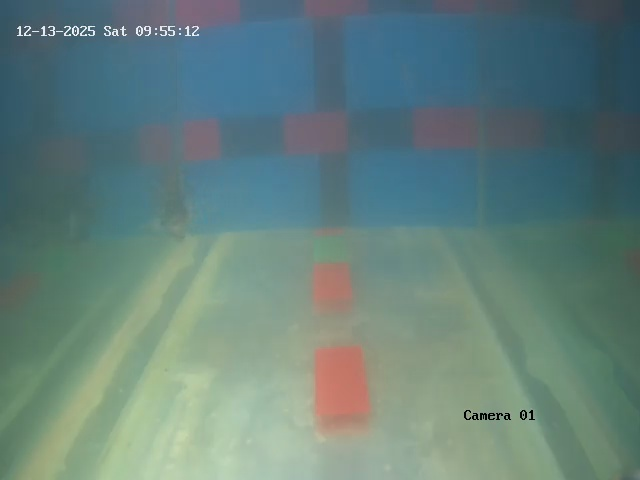fish: (134, 153, 203, 256)
